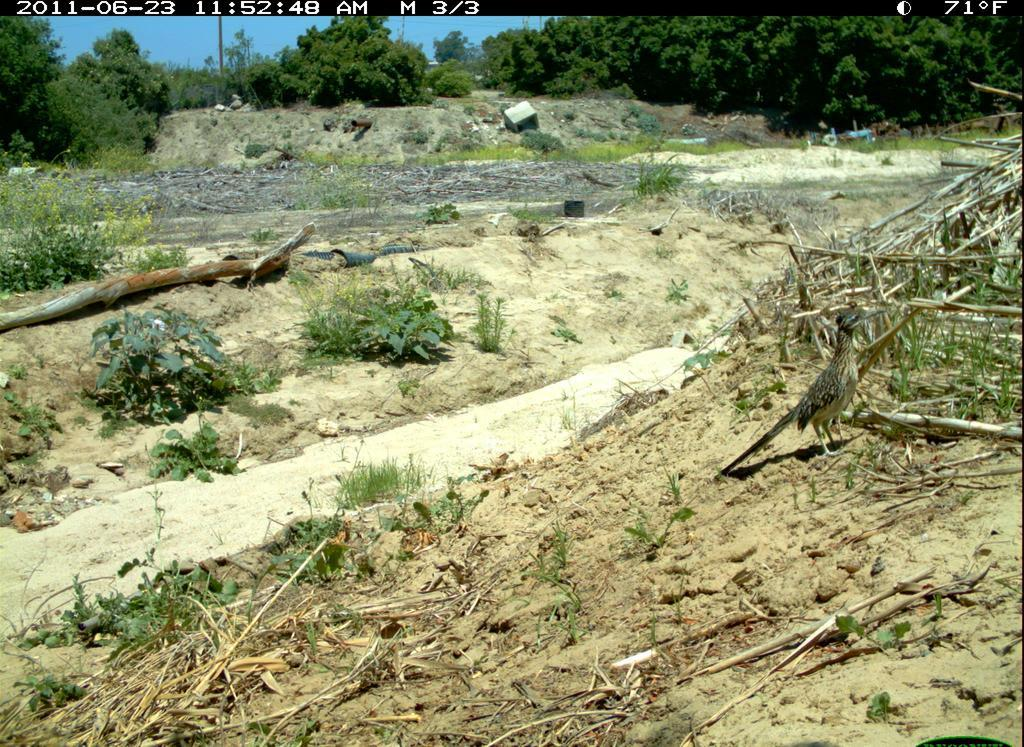bird: (713, 303, 897, 484)
